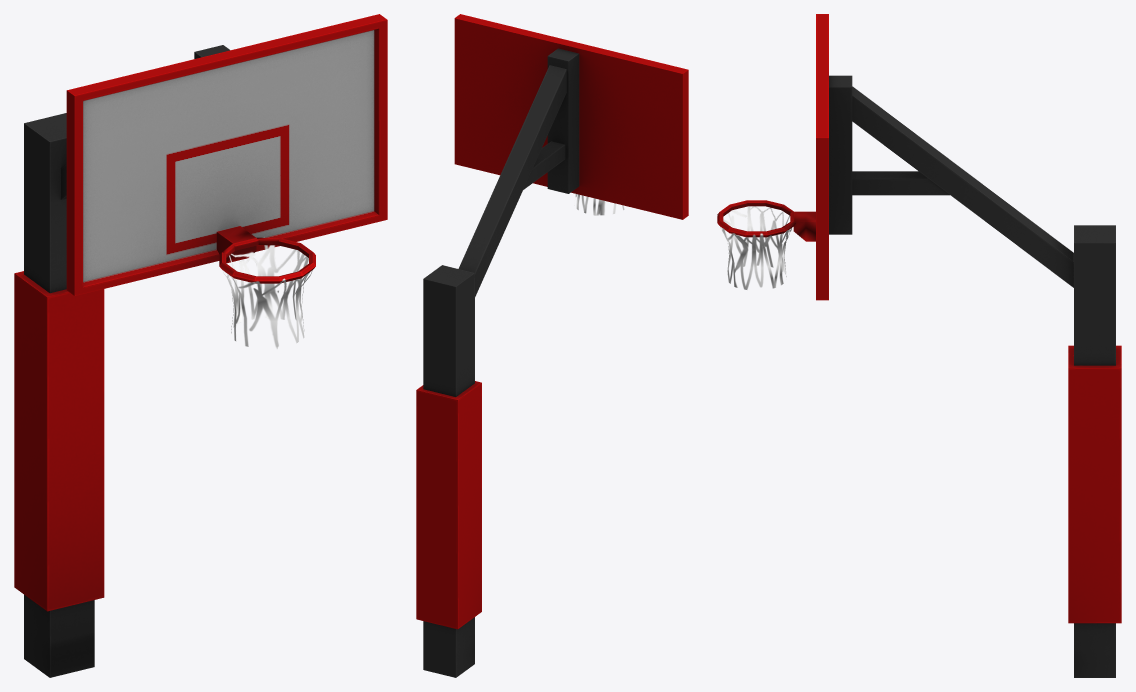
Rendered from hoop.glb.
3 views of the same model, side by side, from view 1: azimuth 30°, elevation 25°; view 2: azimuth 150°, elevation 25°; view 3: azimuth 270°, elevation 25° (orthographic). The views are drawn at different scales.
Parts seen in each view (by area): view 1: BasketBallCourt_Mesh, BasketBallCourt_Mesh.001; view 2: BasketBallCourt_Mesh; view 3: BasketBallCourt_Mesh, BasketBallCourt_Mesh.001.
Boxes of the visible parts, x1,y1,x2,y2 form: BasketBallCourt_Mesh: (14, 14, 387, 677); BasketBallCourt_Mesh.001: (223, 245, 312, 348); BasketBallCourt_Mesh: (416, 14, 688, 677); BasketBallCourt_Mesh: (717, 14, 1121, 677); BasketBallCourt_Mesh.001: (720, 206, 791, 289).
Size of the model in its own units: 1.8 by 4.02 by 2.48.
Materials: 2 (2 with a texture image).
